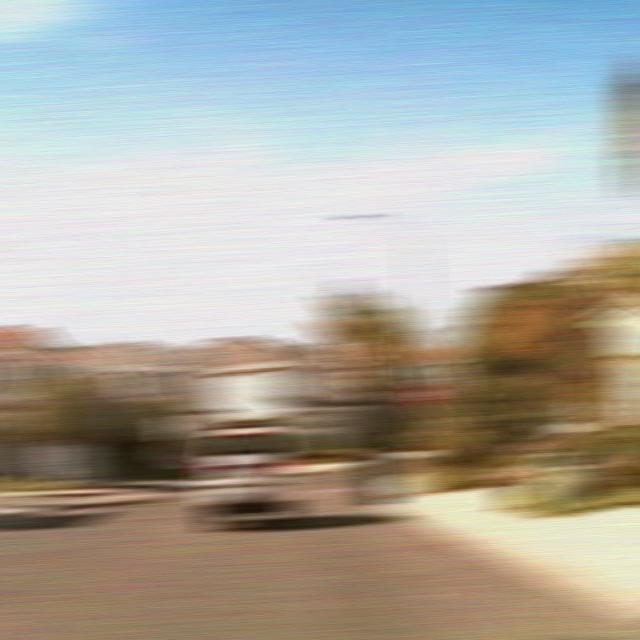stop_sign: (404, 381, 440, 411)
